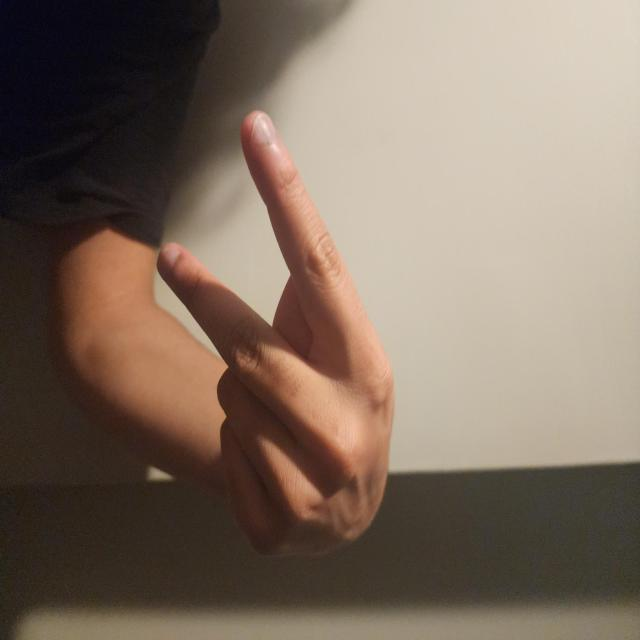P: (240, 321, 583, 640)
